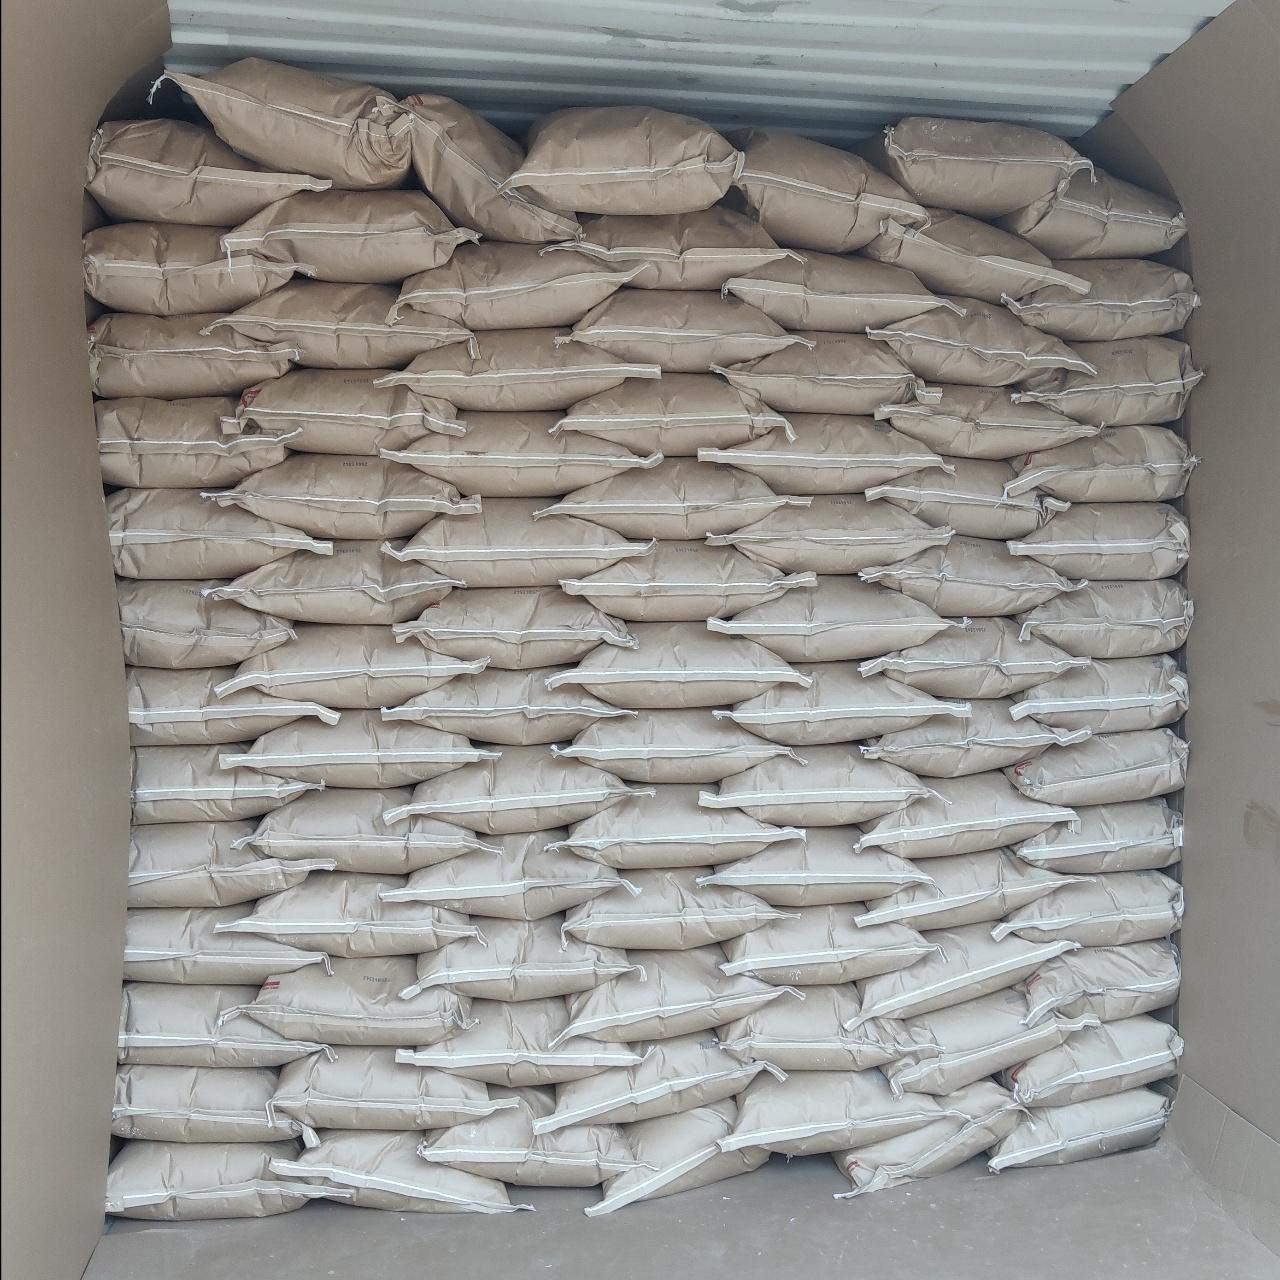sack: (152, 57, 406, 188), (394, 96, 584, 244), (504, 105, 742, 215), (535, 1032, 782, 1133), (88, 120, 326, 224), (847, 924, 1076, 1026), (730, 132, 924, 250), (384, 411, 660, 493), (546, 622, 810, 708), (217, 871, 479, 956), (224, 190, 476, 278), (835, 1082, 1022, 1198), (377, 328, 658, 406), (864, 118, 1088, 215), (708, 576, 954, 662), (392, 745, 644, 830), (222, 280, 470, 366), (399, 998, 644, 1084), (382, 830, 624, 918), (219, 710, 497, 787), (229, 624, 478, 708), (218, 454, 478, 535), (272, 1132, 527, 1214), (542, 206, 804, 286), (884, 988, 1082, 1094), (396, 498, 644, 583), (564, 946, 787, 1039), (862, 212, 1084, 302), (399, 915, 640, 998), (561, 542, 813, 620), (394, 241, 628, 326), (105, 489, 331, 577), (592, 1102, 765, 1214), (248, 956, 470, 1044), (549, 459, 804, 536), (422, 1088, 629, 1182), (105, 1141, 348, 1220), (226, 370, 462, 452), (564, 787, 798, 869), (222, 540, 454, 622), (250, 788, 482, 870), (700, 414, 940, 492), (720, 983, 937, 1070), (710, 496, 949, 574), (720, 663, 956, 742), (554, 374, 788, 454), (869, 298, 1088, 382), (84, 224, 298, 309), (564, 870, 794, 948), (572, 288, 796, 368), (382, 668, 624, 742), (275, 1048, 502, 1126), (724, 1070, 934, 1155), (396, 588, 632, 663), (704, 744, 926, 824), (858, 772, 1070, 856), (724, 252, 952, 328), (856, 850, 1082, 926), (714, 332, 924, 414), (90, 312, 294, 396), (556, 710, 796, 782), (118, 983, 331, 1064), (697, 828, 922, 904), (860, 620, 1085, 696), (860, 536, 1078, 614), (1000, 1014, 1182, 1108), (98, 396, 286, 486), (862, 700, 1088, 774), (130, 821, 331, 904), (722, 904, 930, 982), (998, 166, 1182, 254), (1014, 336, 1201, 422), (125, 904, 328, 982), (114, 1065, 318, 1142), (876, 384, 1099, 454), (128, 668, 336, 742), (1006, 260, 1198, 340), (869, 459, 1065, 536), (988, 1088, 1166, 1170), (122, 580, 294, 663), (132, 745, 320, 822), (1006, 425, 1196, 501), (994, 870, 1182, 944), (1006, 728, 1186, 804), (1022, 938, 1180, 1022), (1012, 656, 1189, 731), (1010, 504, 1189, 578), (1017, 580, 1190, 654), (1010, 798, 1182, 872)
